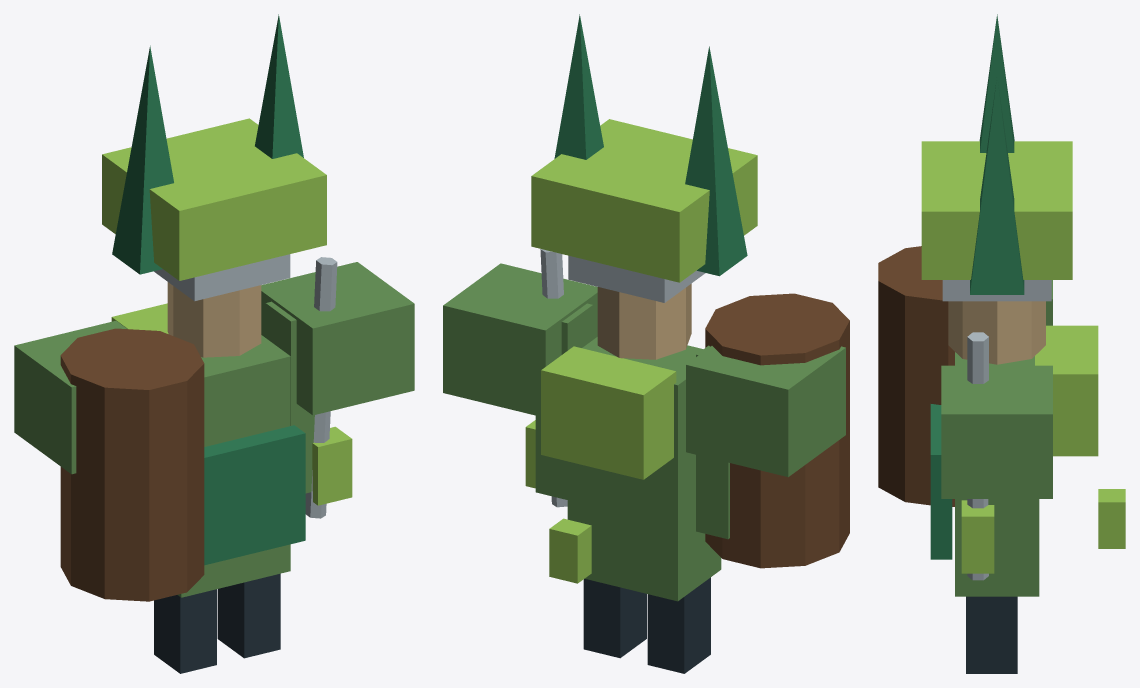
The model's file is heavy-infantry.obj.
3 views of the same model, side by side, from view 1: azimuth 30°, elevation 25°; view 2: azimuth 150°, elevation 25°; view 3: azimuth 270°, elevation 25° (orthographic). The views are drawn at different scales.
Visible parts, largest first — view 1: infantry; view 2: infantry; view 3: infantry.
Boxes of the visible parts, x1,y1,x2,y2 form: infantry: (14, 14, 414, 673); infantry: (443, 14, 849, 673); infantry: (878, 14, 1125, 673).
Size of the model in its own units: 1.28 by 2.21 by 0.8181.
